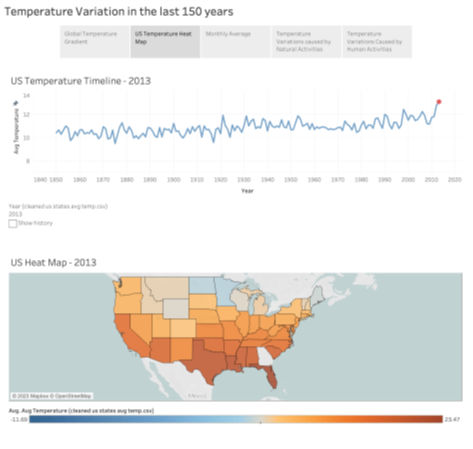

Layout of this report page (visuals, bound fields, positions):
{"tool":"tableau","page":{"name":"Dashboard 2","canvas":[1000,800],"ordinal":1},"visuals":[{"type":"worksheet","title":"US Temperature Timeline","mark":"Circle","rows":["Avg_Temperature (cleaned_us_states_avg_temp.csv)"],"cols":["Year (cleaned_us_states_avg_temp.csv)"],"box":[8,8,984,281.5]},{"type":"currpage","title":"US Heat Map","box":[8,289.5,984,110]},{"type":"worksheet","title":"US Heat Map","mark":"Automatic","box":[8,399.5,984,327.5]},{"type":"legend","title":"US Heat Map","param":"[federated.1gfufoh1clbpm9185u3rs0lbvpeg].[avg:Avg_Temperature (cleaned_us_states","box":[8,727,984,65]}]}

Visuals, with their boxes on the page's 1000x800 design canvas (x1, y1, x2, y2). These are canvas units, not pixel positions in the 473x449 screenshot, which may show the page scaled, cropped or inside an application window:
"US Temperature Timeline" worksheet (Circle marks): (left=8, top=8, right=992, bottom=290)
"US Heat Map" currpage: (left=8, top=290, right=992, bottom=400)
"US Heat Map" worksheet: (left=8, top=400, right=992, bottom=727)
"US Heat Map" legend: (left=8, top=727, right=992, bottom=792)
